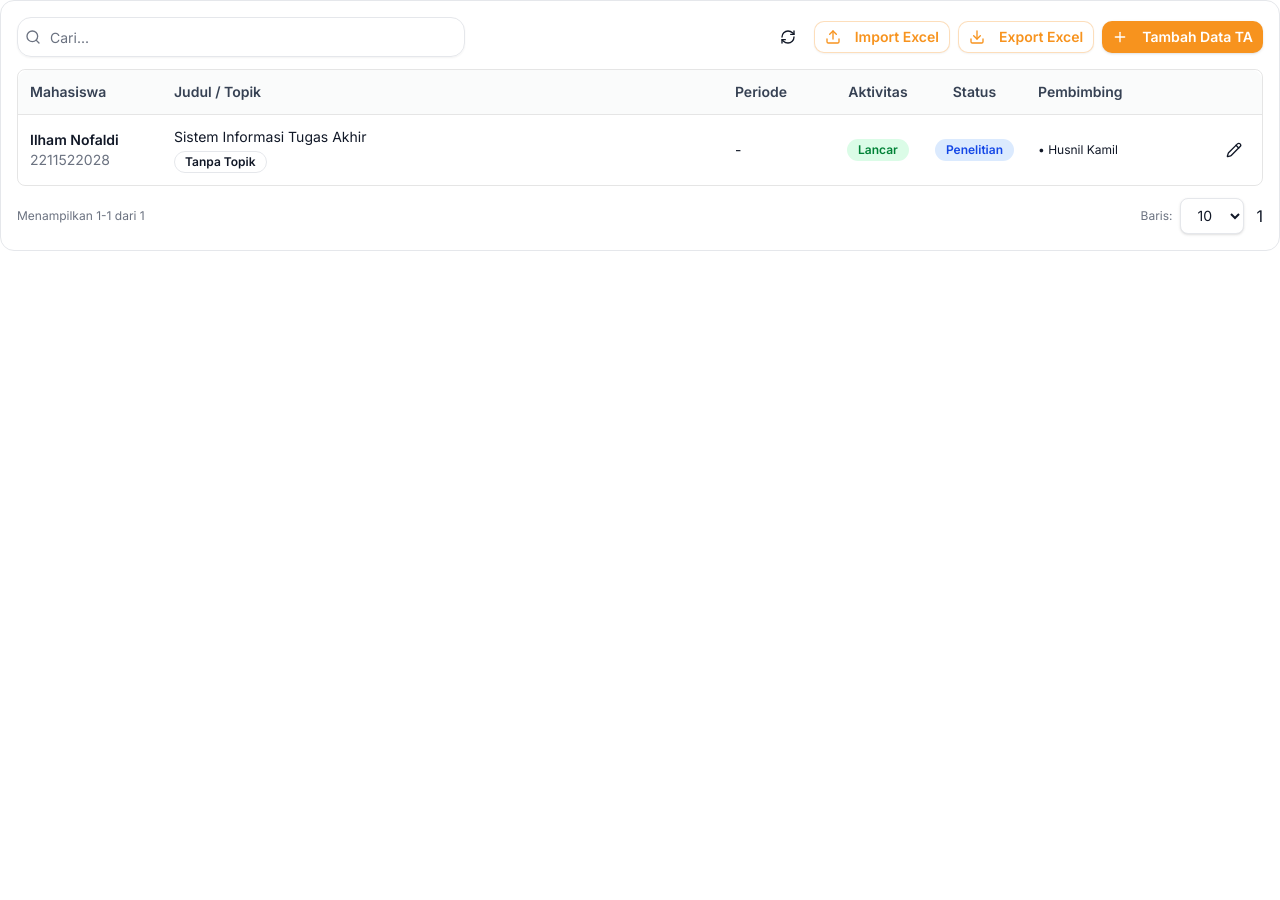
Test: DataMasterTaPanel form › keeps the student fixed while editing and shows them as 'Nama (NIM)'
The image size is (1280, 900).
Expected: the text "Sistem Informasi Tugas Akhir" is shown, [174, 128, 366, 144]
Click the 5th button at [1234, 150], box [1218, 134, 1250, 166]
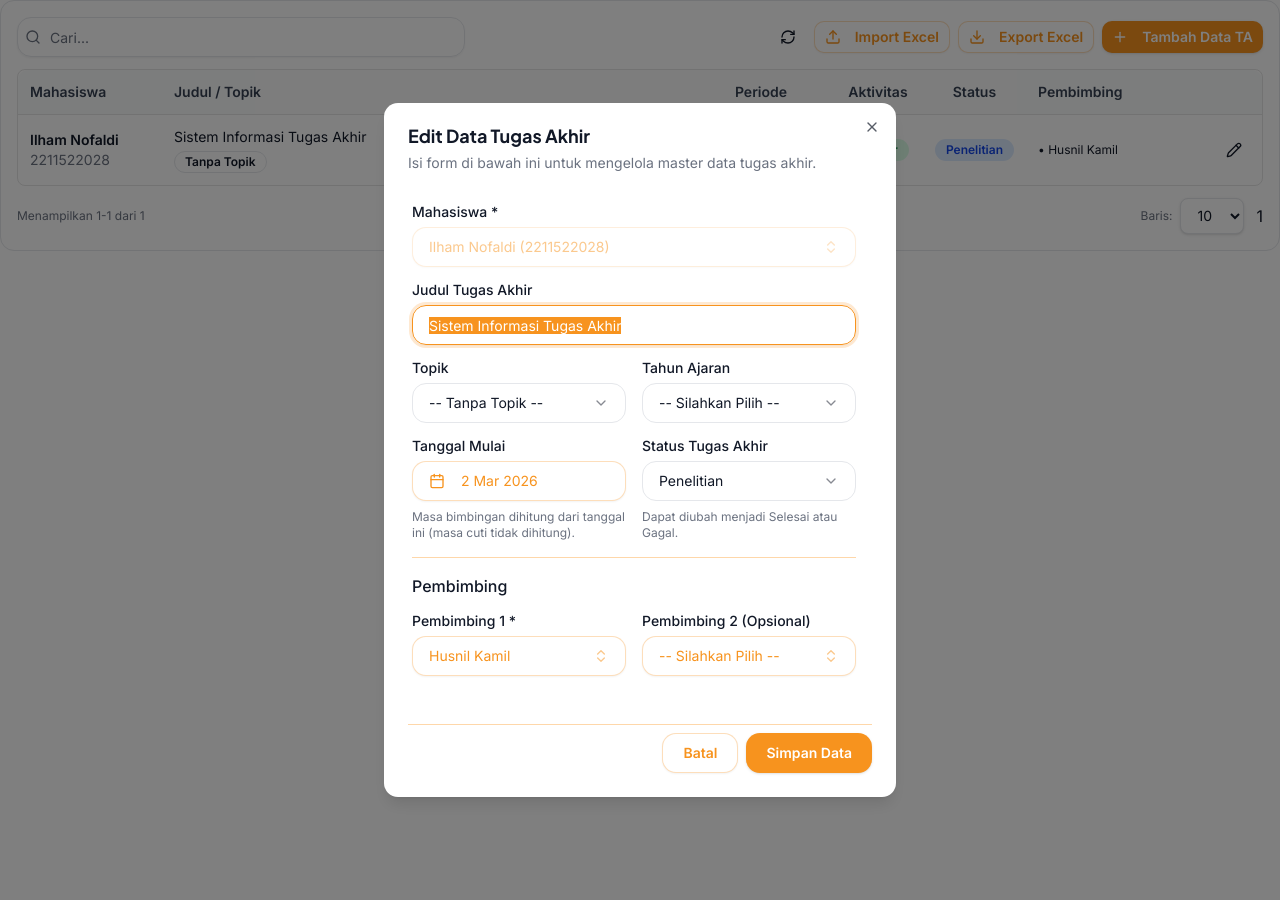
Result: the dropdown named "Pilih mahasiswa" is disabled at [412, 227, 856, 267]
Result: the dropdown named "Pilih mahasiswa" reads "Ilham Nofaldi (2211522028)" at [412, 227, 856, 267]
